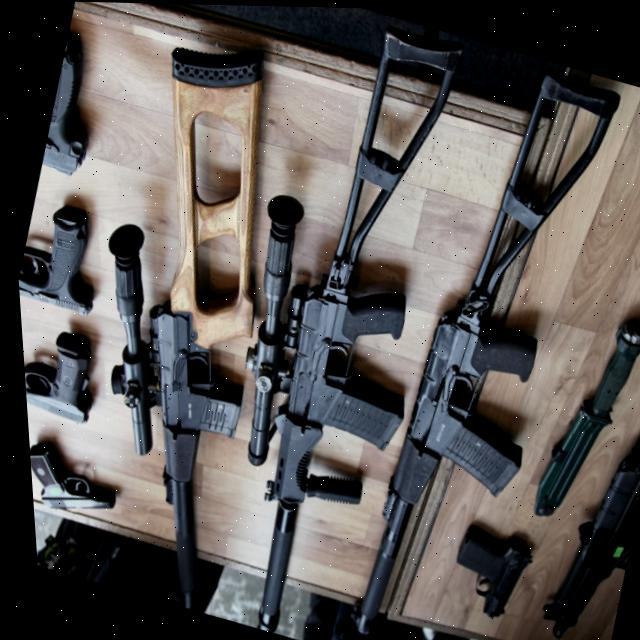firearm: (148, 3, 507, 640), (306, 42, 640, 640), (6, 20, 336, 613)
knife: (512, 298, 640, 535)
pistol: (10, 193, 116, 318), (32, 31, 117, 178), (433, 517, 534, 623), (17, 319, 103, 423), (23, 436, 120, 526)
